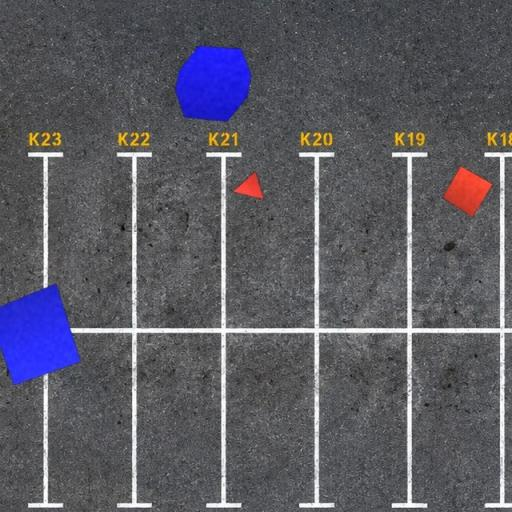BLUE_SQUARE: (0, 282, 82, 386)
RED_SQUARE: (442, 166, 494, 218)
